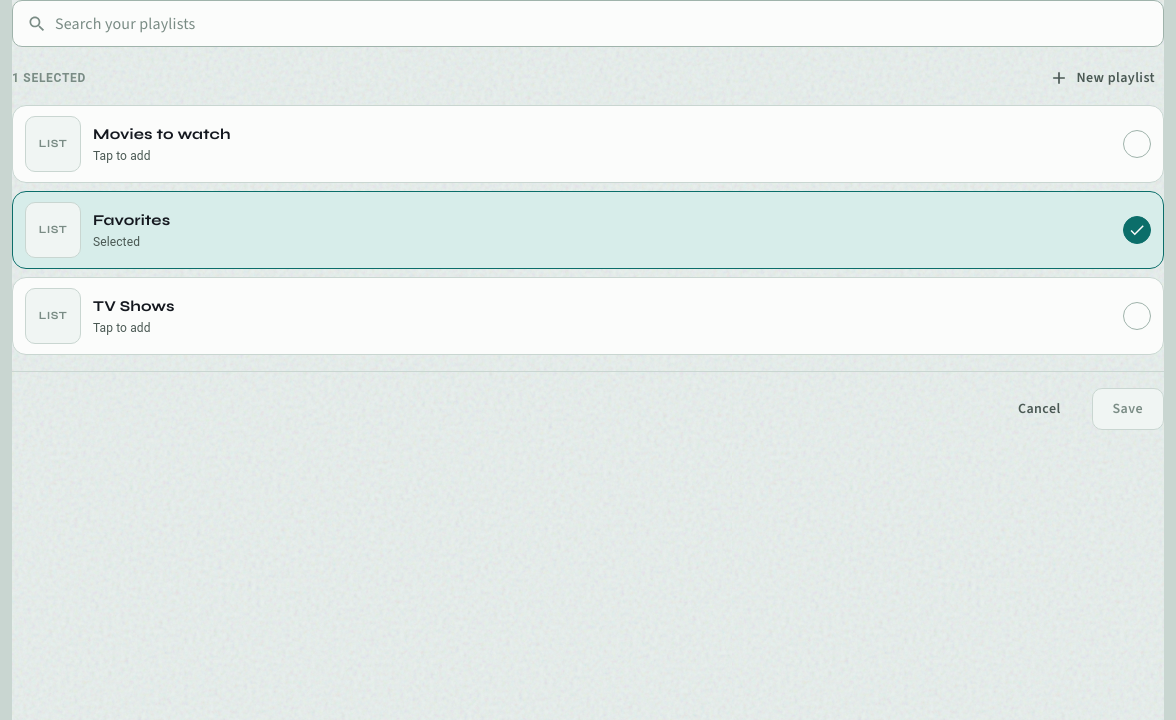
Test: PlaylistContent › filters the playlist list via the search field
The width and height of the screenshot is (1176, 720).
Expected: the text "Movies to watch" is shown, top-left (93, 125), bottom-right (231, 143)
Type "tv" into the field with placeholder "Search your playlists". click: (602, 24)
box: top-left (55, 12), bottom-right (1149, 35)
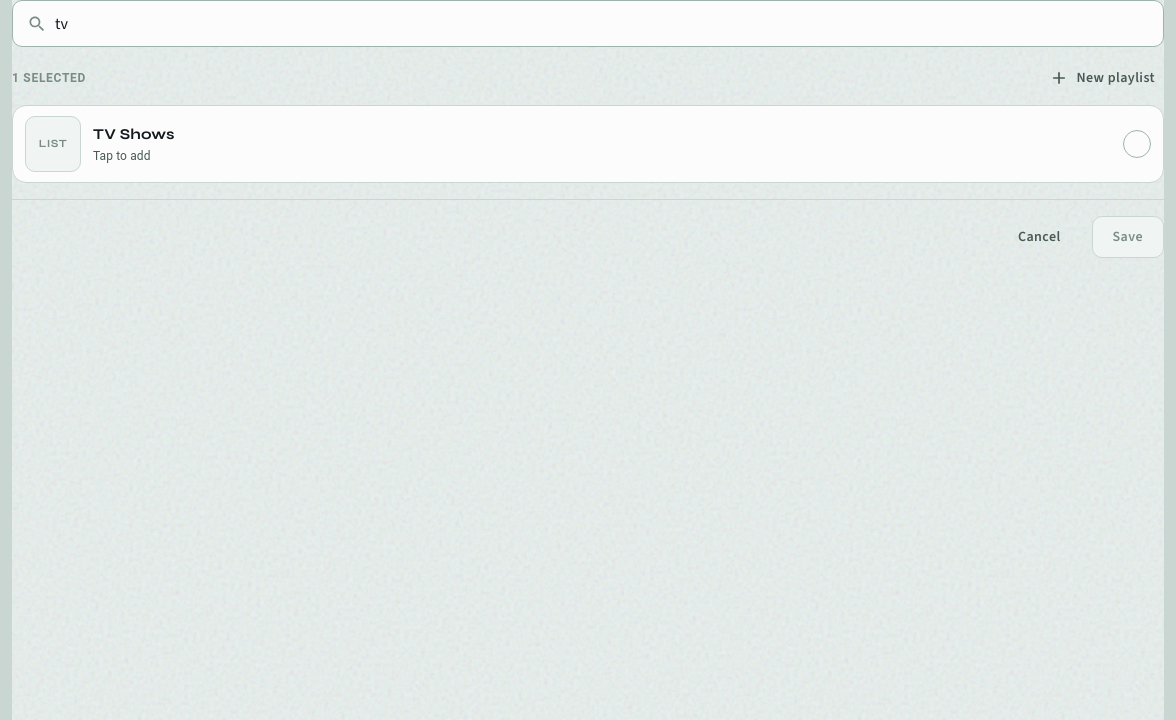
Expected: the text "TV Shows" is shown, top-left (93, 125), bottom-right (175, 143)
Expected: the checkbox "Movies to watch" is gone
Expected: the checkbox "Favorites" is gone
